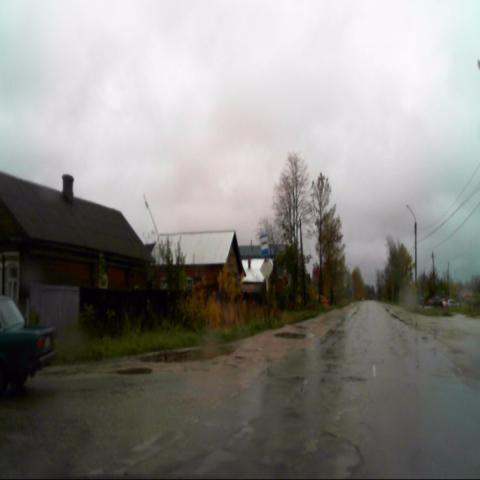5_16: (260, 233, 270, 257)
